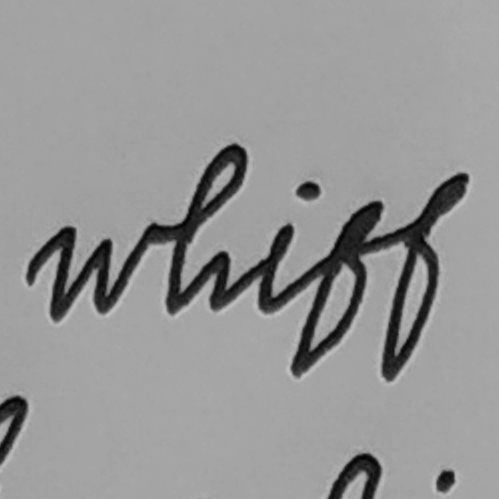f: (376, 165, 475, 383), (282, 194, 389, 383)
h: (158, 138, 252, 320)
i: (253, 174, 325, 317)
w: (38, 212, 157, 325)
